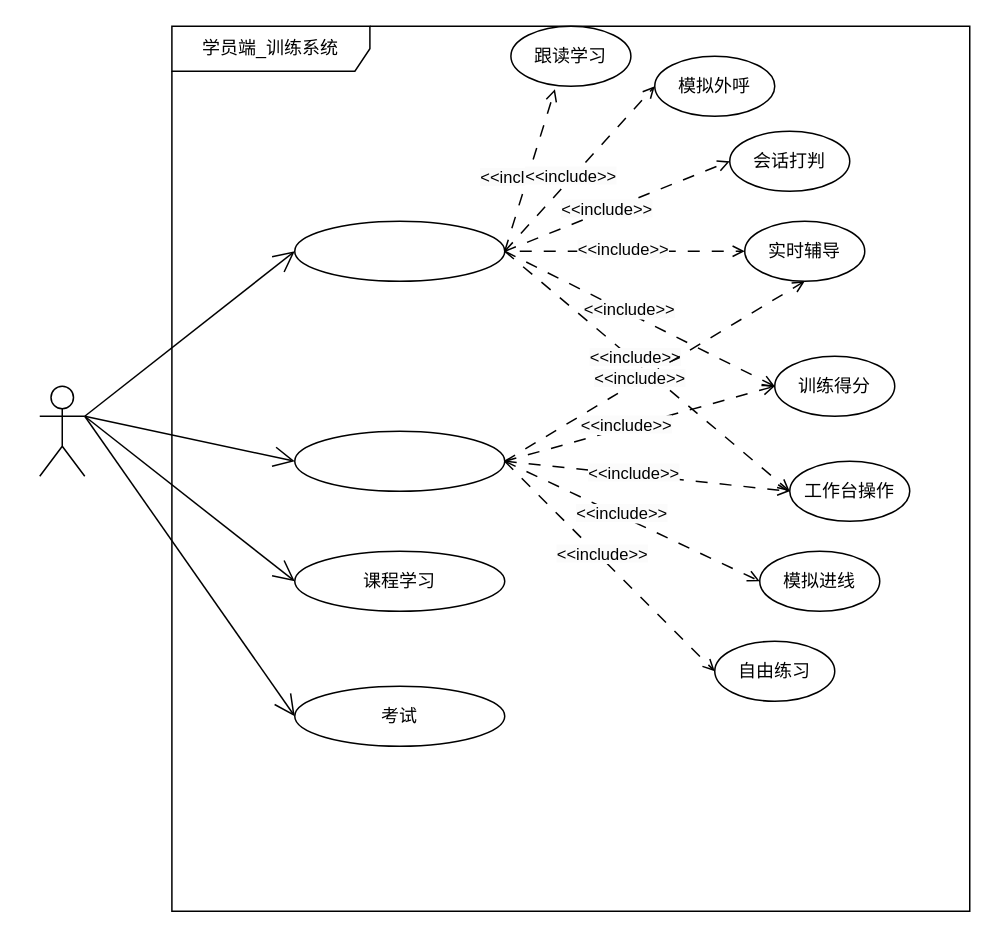
Image size: 996x938. Some labels were removed from this diagram. The shapes that lost their labels are listed below. From the top down, each one's centre as x and y in pixels, then its label:
At pixel 399 250: "热线训练".
At pixel 61 430: "客服学员".
At pixel 399 460: "在线训练".
